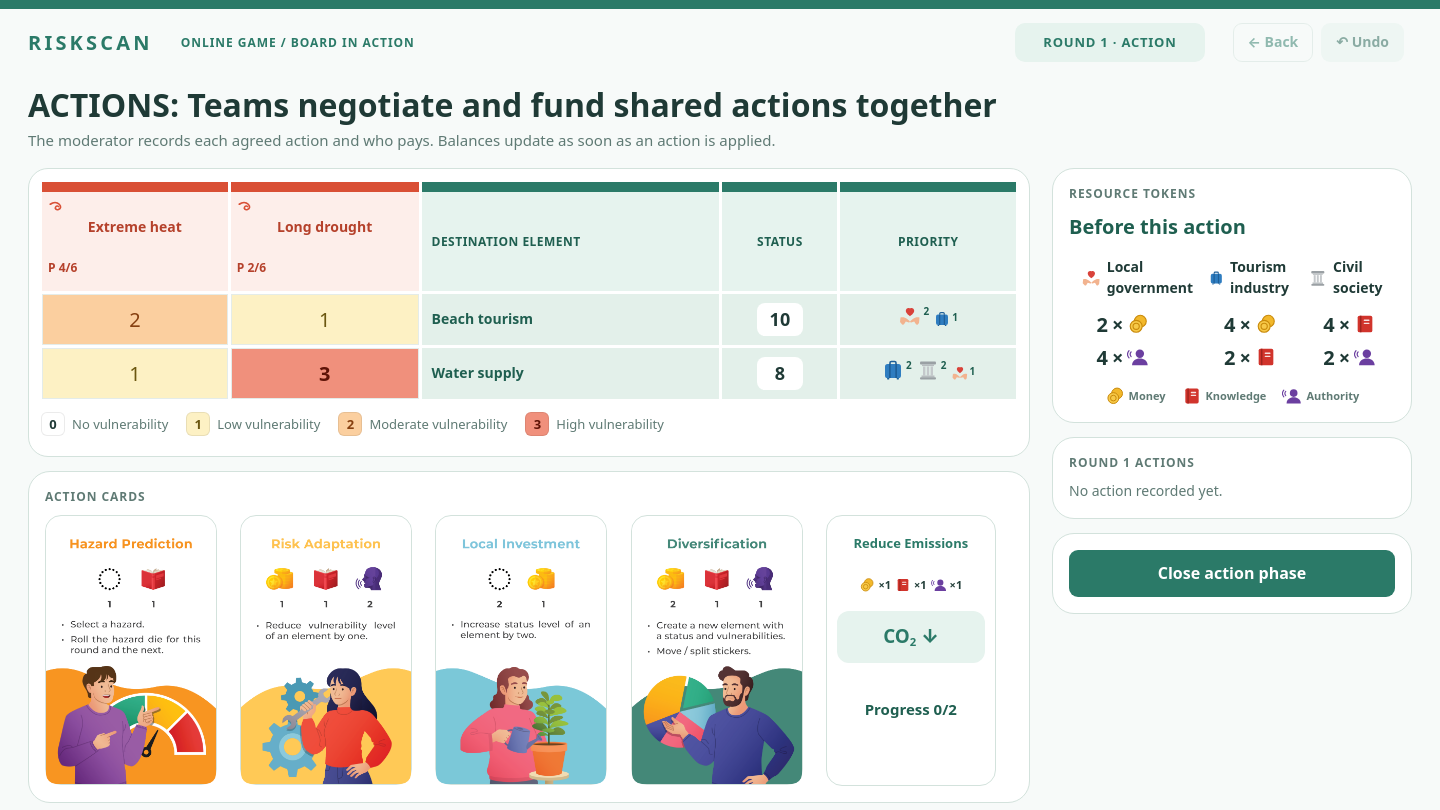
Test: ModeratorPage › explains a Diversification name that is already on the board and keeps Apply disabled
Click the 4th button named "Diversification" at (717, 650), box [631,515,803,785]
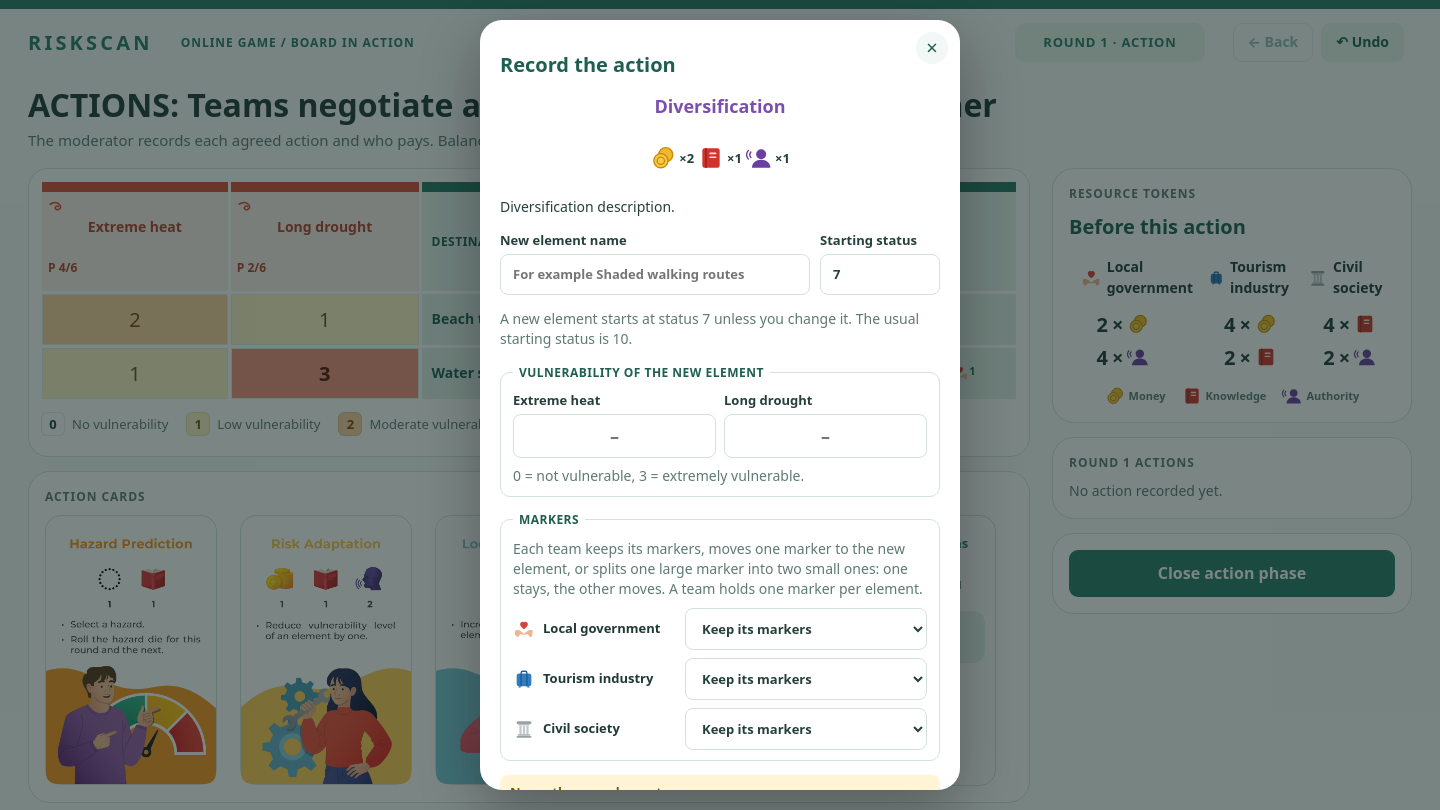
Type "water SUPPLY" into the field labelled "New element name" at (655, 275), box [500,254,810,295]
(page scrolled)
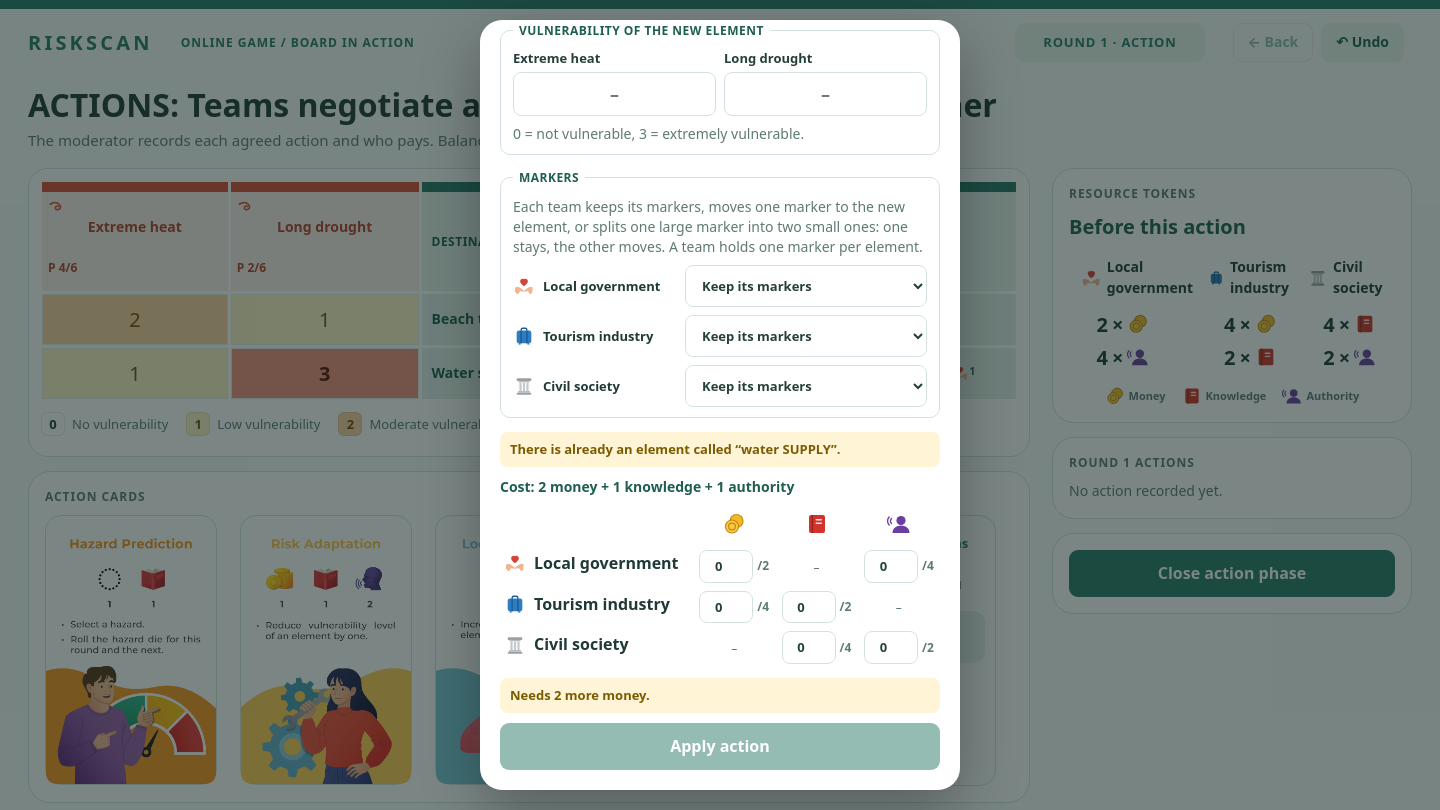
Result: the button "Apply action" is disabled at [500,723,940,770]
